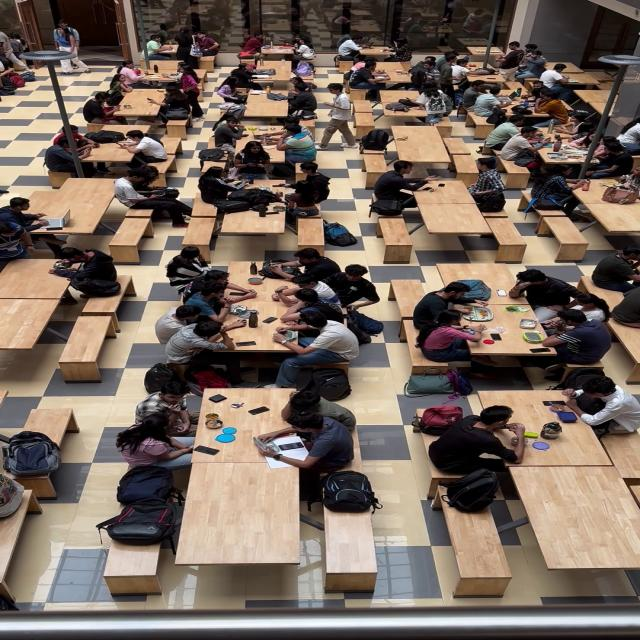Occupied: (143, 248, 389, 392), (421, 262, 617, 378), (113, 382, 359, 467), (427, 382, 640, 466), (372, 154, 518, 213), (79, 59, 212, 121), (194, 165, 343, 217), (490, 119, 640, 168), (40, 117, 171, 168), (269, 85, 375, 138), (5, 188, 86, 254), (111, 470, 182, 540), (0, 434, 62, 513), (519, 169, 640, 209), (52, 244, 130, 302), (467, 80, 583, 118), (133, 18, 226, 65), (429, 31, 547, 66), (433, 465, 512, 517), (348, 55, 447, 93), (310, 467, 395, 510), (234, 54, 326, 86), (608, 248, 640, 329), (248, 29, 328, 61), (346, 32, 419, 62), (386, 87, 447, 120), (2, 31, 30, 86), (366, 129, 408, 154), (548, 64, 582, 89), (587, 89, 612, 114), (133, 215, 147, 216)
Unoccupied: (184, 466, 312, 562), (524, 467, 640, 571), (453, 519, 518, 582), (5, 259, 50, 349), (324, 515, 384, 569), (413, 125, 473, 172), (57, 312, 103, 372), (182, 219, 286, 245), (111, 207, 152, 248), (424, 212, 484, 235), (106, 550, 159, 576), (542, 213, 585, 245), (34, 405, 78, 433), (595, 211, 640, 238), (490, 212, 530, 241), (68, 175, 116, 193), (382, 222, 412, 250), (301, 218, 327, 245)
